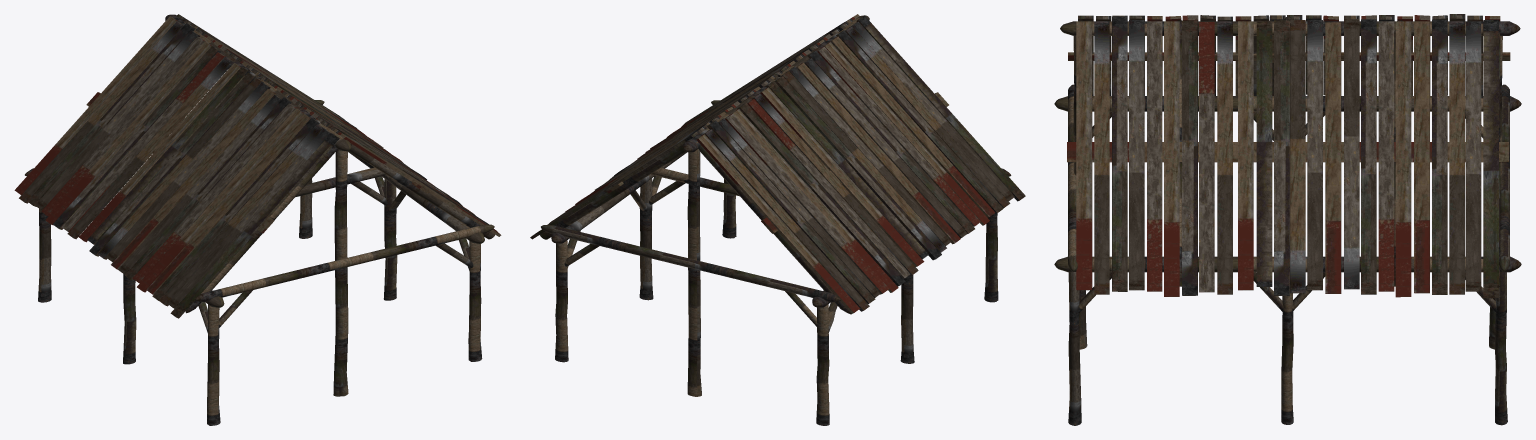
Rendered from Open_Hut_.fbx.
The picture shows the model from 3 angles, left to right: view 1: azimuth 30°, elevation 25°; view 2: azimuth 150°, elevation 25°; view 3: azimuth 270°, elevation 25°; orthographic projection. The views are drawn at different scales.
Visible parts, largest first — view 1: house_addon_2:house_addon_2_0, house_addon_2:house_addon_2_1; view 2: house_addon_2:house_addon_2_0, house_addon_2:house_addon_2_1; view 3: house_addon_2:house_addon_2_0, house_addon_2:house_addon_2_1.
Boxes of the visible parts, x1,y1,x2,y2 form: house_addon_2:house_addon_2_0: (14,14,501,318); house_addon_2:house_addon_2_1: (25,14,494,425); house_addon_2:house_addon_2_0: (530,14,1025,313); house_addon_2:house_addon_2_1: (540,15,1011,425); house_addon_2:house_addon_2_0: (1067,14,1510,298); house_addon_2:house_addon_2_1: (1054,16,1521,425).
Bounding box in the file's own units: 19.87 × 15.05 × 19.32.
1 material, 1 textured.
